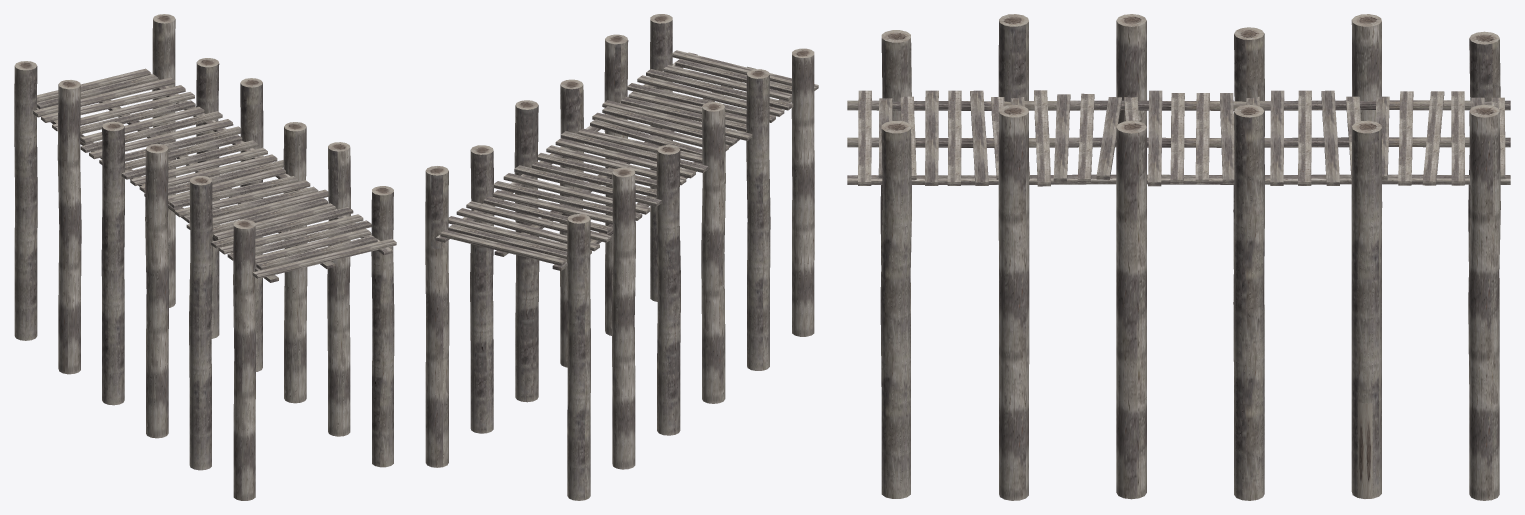
The model's file is Wood-Jetty.FBX.
3 renders of one model, left to right at view 1: azimuth 30°, elevation 25°; view 2: azimuth 150°, elevation 25°; view 3: azimuth 270°, elevation 25°, orthographic. The views are drawn at different scales.
Parts seen in each view (by area): view 1: Box035; view 2: Box035; view 3: Box035.
Boxes of the visible parts, x1,y1,x2,y2 form: Box035: [14, 14, 396, 500]; Box035: [425, 14, 818, 500]; Box035: [847, 14, 1510, 500].
Bounding box in the file's own units: 6.5 × 11.12 × 17.43.
